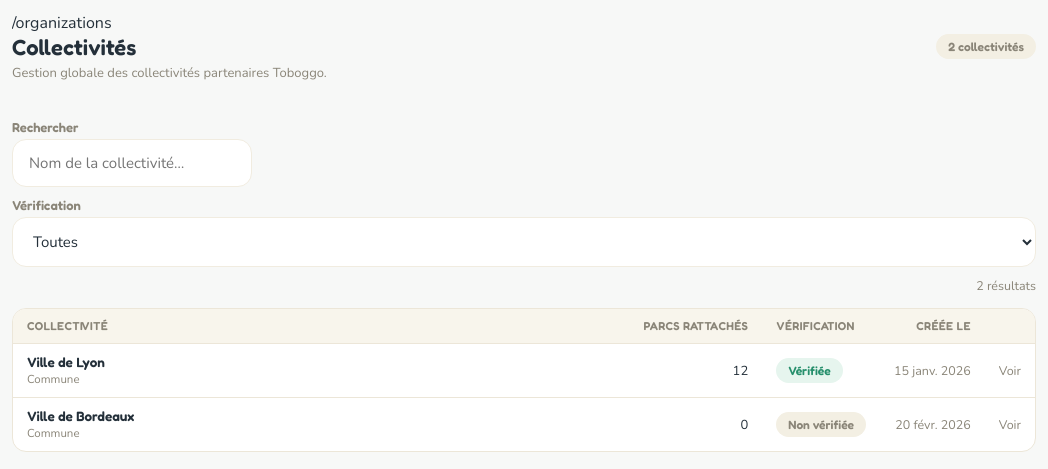
Test case: Organizations — liste Admin des collectivités (Admin-UI-3B) › le filtre de vérification restreint la liste
The width and height of the screenshot is (1048, 469).
Expected: the text "Ville de Lyon" is shown, [27,354,105,370]
Select "Vérifiée" in the dropdown labelled "Vérification" at (524, 242), box [12,217,1036,267]
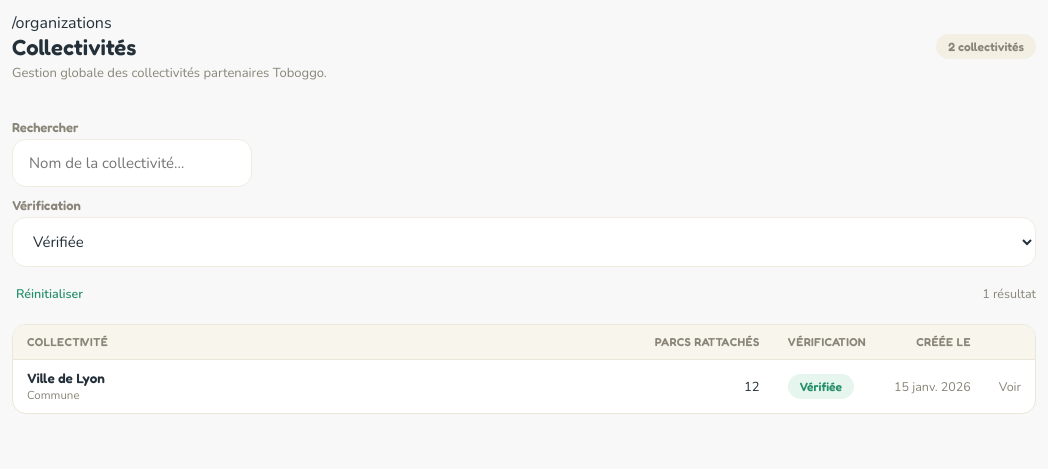
Expected: the text "Ville de Lyon" is shown, [27,370,105,386]
Expected: the button "Ville de Bordeaux" is gone
